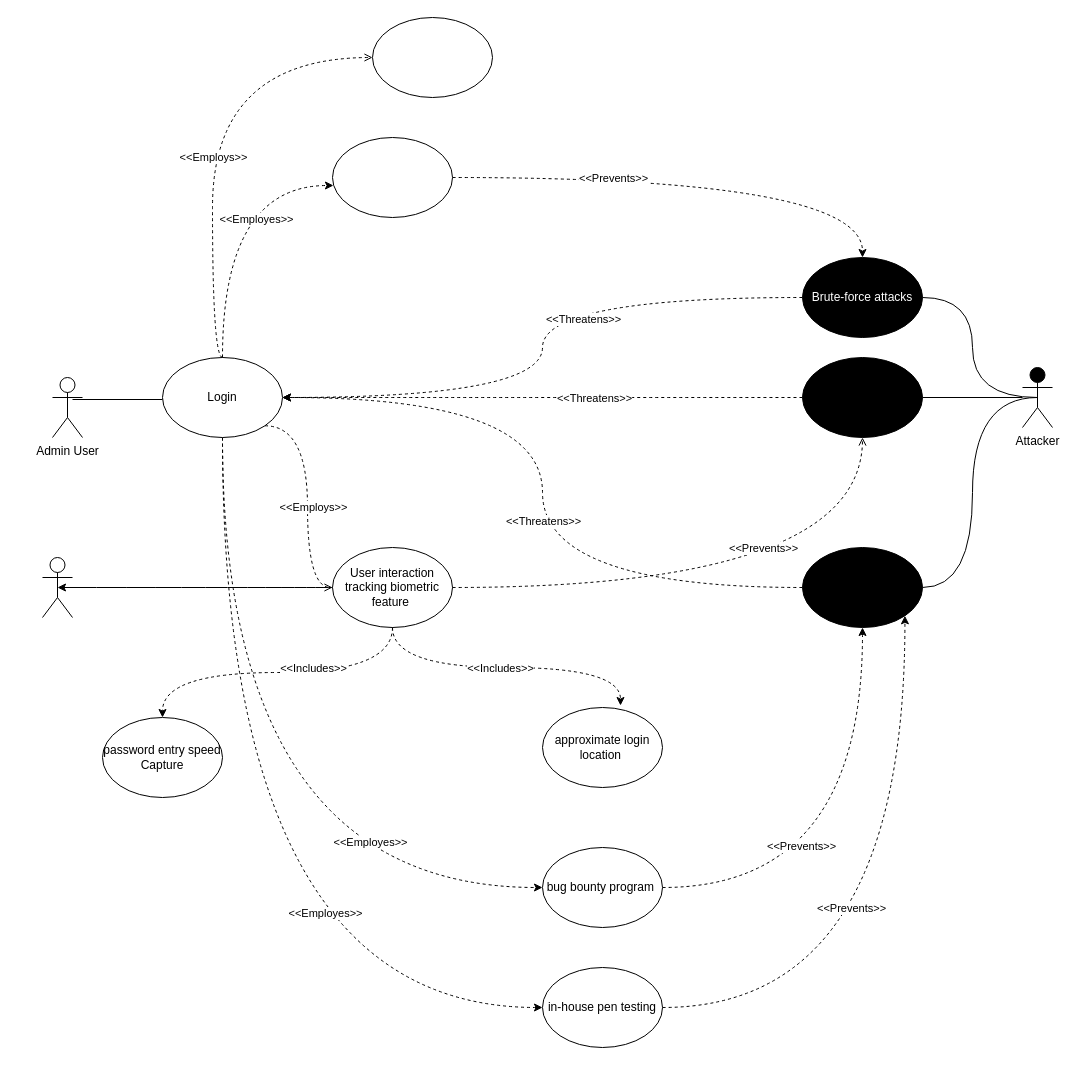
The diagram is 1077 pixels wide and 1065 high, and some of its shapes have lost their labels. The box of each missing label's shape, as (x1, y1, x2, y2) in pixels:
Exploit system weaknesses: (802, 546, 922, 628)
limits the number of repeated attempts: (332, 136, 452, 218)
Phishing Attacks: (802, 356, 922, 438)
security officer: (42, 556, 72, 618)
two-factor authentication: (372, 16, 492, 98)
